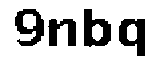9: (12, 6, 44, 52)
b: (82, 4, 113, 51)
n: (46, 17, 78, 50)
q: (117, 15, 148, 60)
